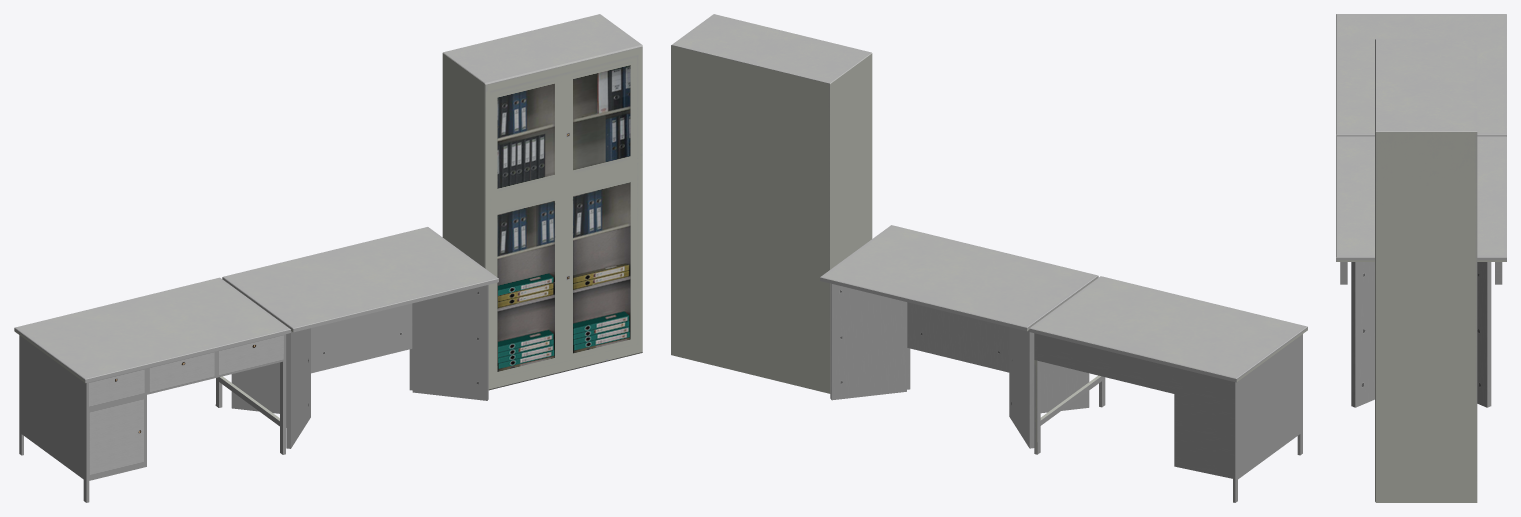
The model's file is DangAnGui.FBX.
3 renders of one model, left to right at view 1: azimuth 30°, elevation 25°; view 2: azimuth 150°, elevation 25°; view 3: azimuth 270°, elevation 25°, orthographic. The views are drawn at different scales.
Visible parts, largest first — view 1: Object023, Box007, Object022; view 2: Object023, Box007, Object022; view 3: Object023, Object022, Box007.
Boxes of the visible parts, x1,y1,x2,y2 form: Object023: (442, 14, 642, 390); Box007: (14, 277, 290, 502); Object022: (222, 227, 498, 448); Object023: (671, 14, 872, 393); Box007: (1029, 276, 1307, 502); Object022: (820, 225, 1098, 448); Object023: (1375, 38, 1477, 502); Object022: (1336, 136, 1506, 407); Box007: (1336, 14, 1506, 284).
Bounding box in the file's own units: 395 × 203 × 84.46.
Materials: 1 (1 with a texture image).
